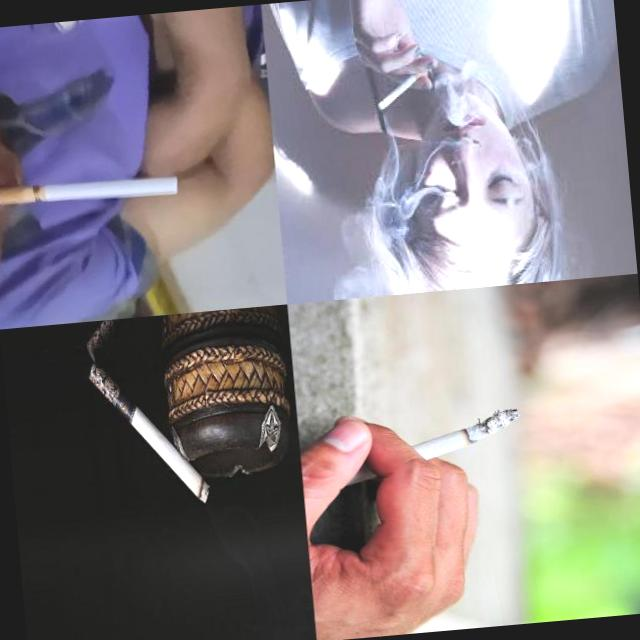cigarette: (86, 352, 210, 514), (332, 408, 522, 488), (0, 169, 177, 209), (373, 64, 433, 110)
